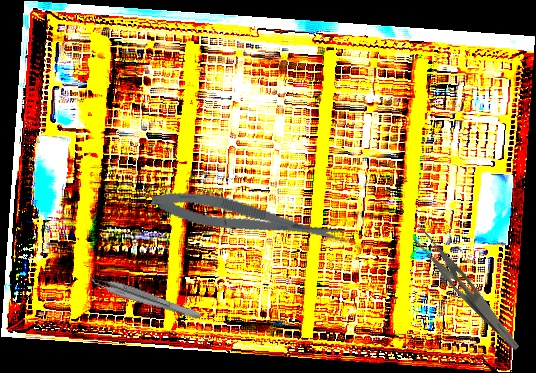Dressing Forceps: (403, 222, 532, 351)
Micro Scissor: (148, 181, 348, 257)
Tissue Forceps: (87, 272, 204, 321)
